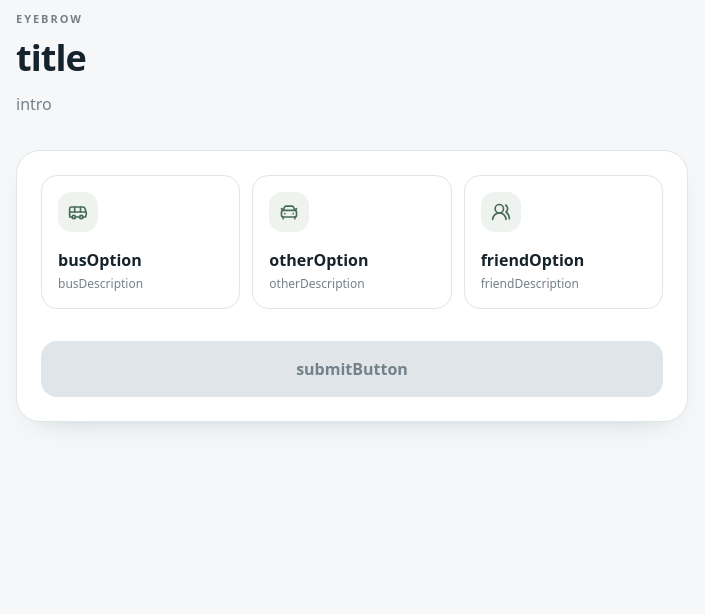
Test case: ReportForm › blurs and disables departure times that already passed
Click the button "busOption busDescription".
click(141, 242)  # box 41,175 -> 240,309
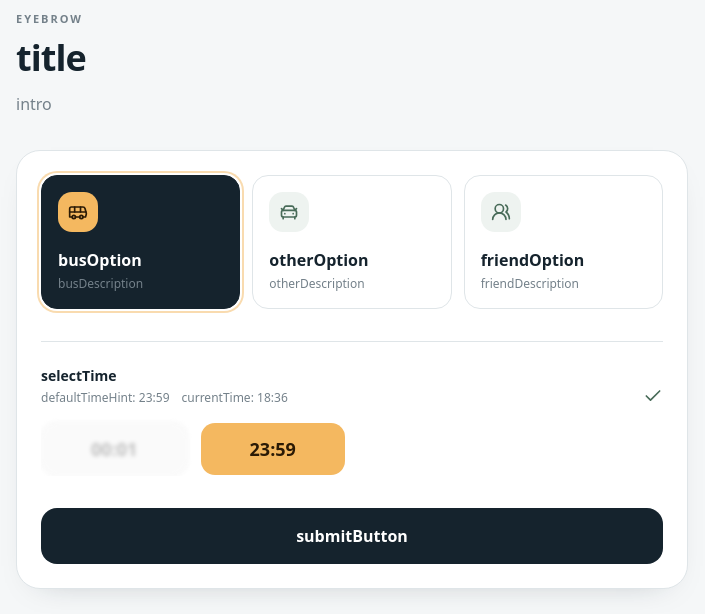
Expected: the button "00:01" is disabled, 41,422 -> 188,476
